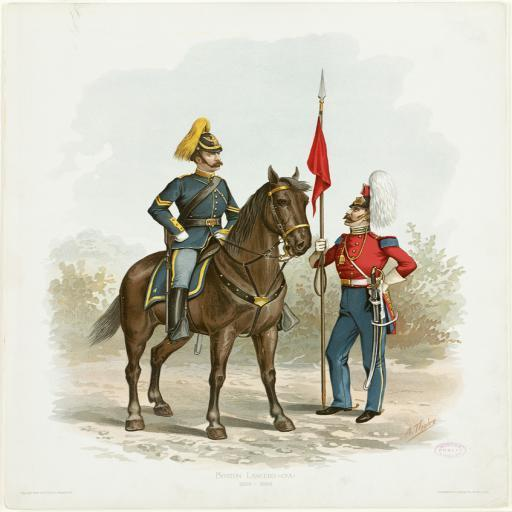horse: (84, 163, 316, 444)
